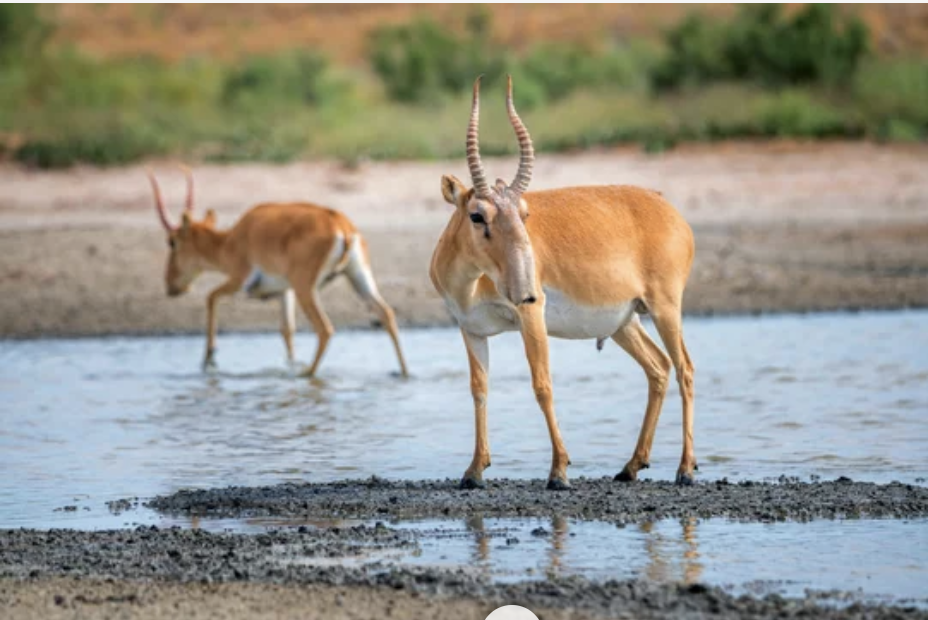saiga: (428, 67, 716, 494)
